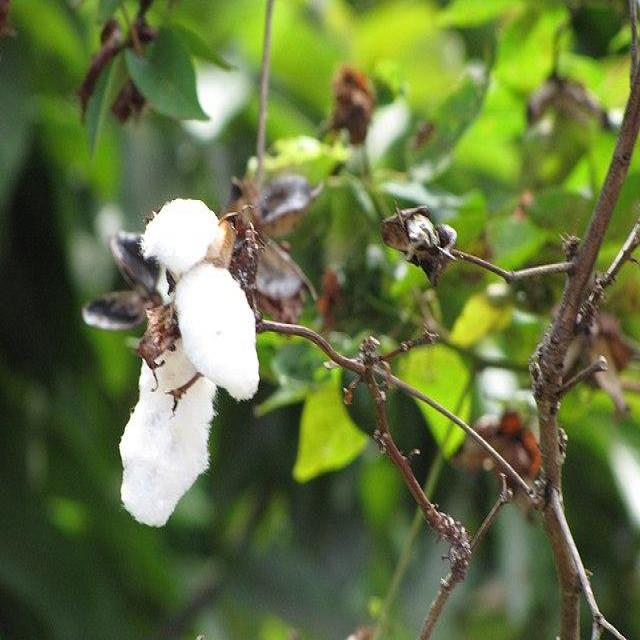Late_blight: (140, 195, 260, 403), (119, 335, 213, 529)
